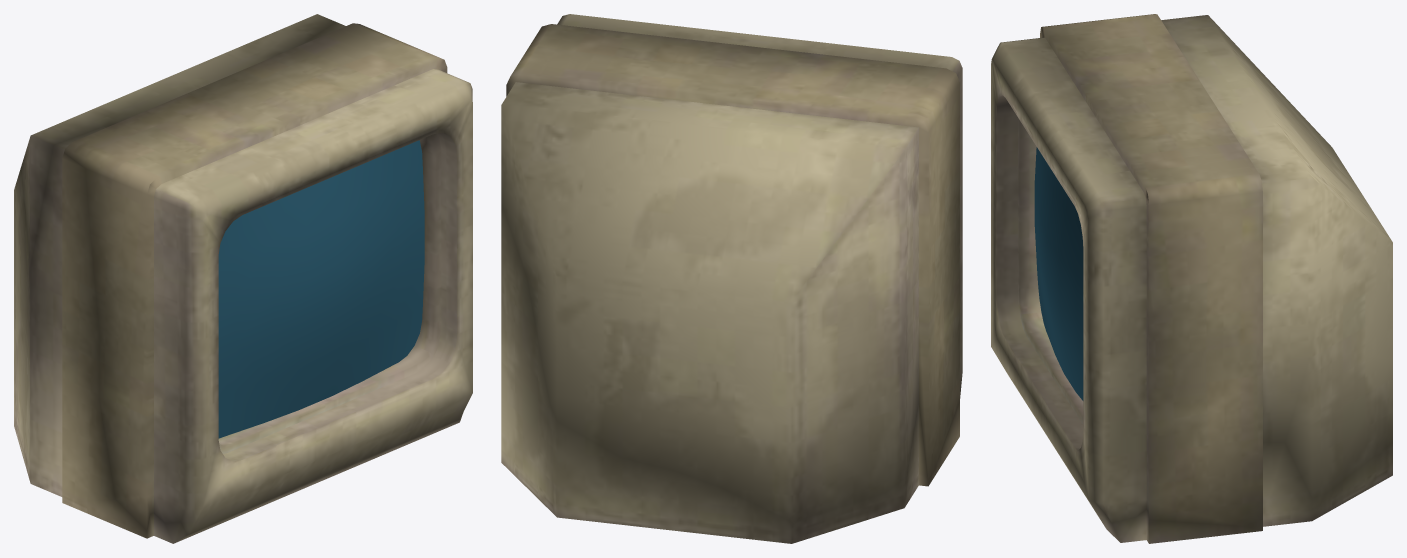
File: retro_tv_b.glb
The picture shows the model from 3 angles, left to right: view 1: azimuth 30°, elevation 25°; view 2: azimuth 150°, elevation 25°; view 3: azimuth 270°, elevation 25°; orthographic projection. The views are drawn at different scales.
Parts seen in each view (by area): view 1: tetri_tv_main_low; view 2: tetri_tv_main_low; view 3: tetri_tv_main_low.
Boxes of the visible parts, <box> form: tetri_tv_main_low: <box>14,14,472,543</box>; tetri_tv_main_low: <box>501,14,962,543</box>; tetri_tv_main_low: <box>991,14,1392,543</box>.
Bounding box in the file's own units: 0.5117 × 0.4482 × 0.4649.
Materials: 2 (1 with a texture image).
